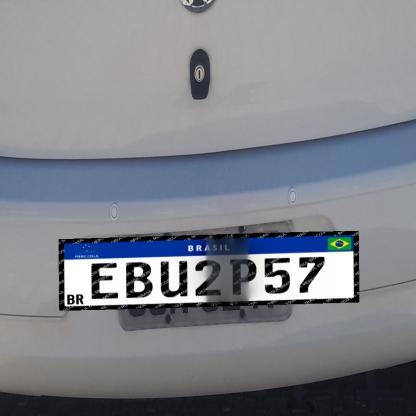PlacaM: (59, 231, 359, 311)
